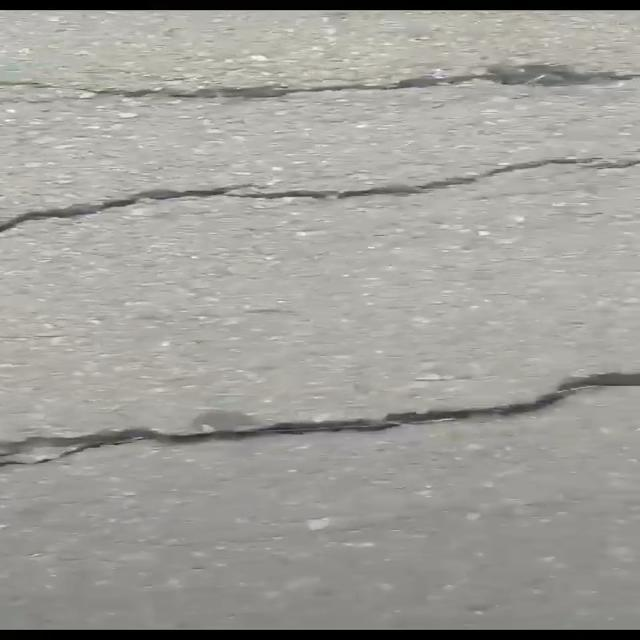Melintang: (0, 362, 640, 479), (0, 144, 640, 256)
